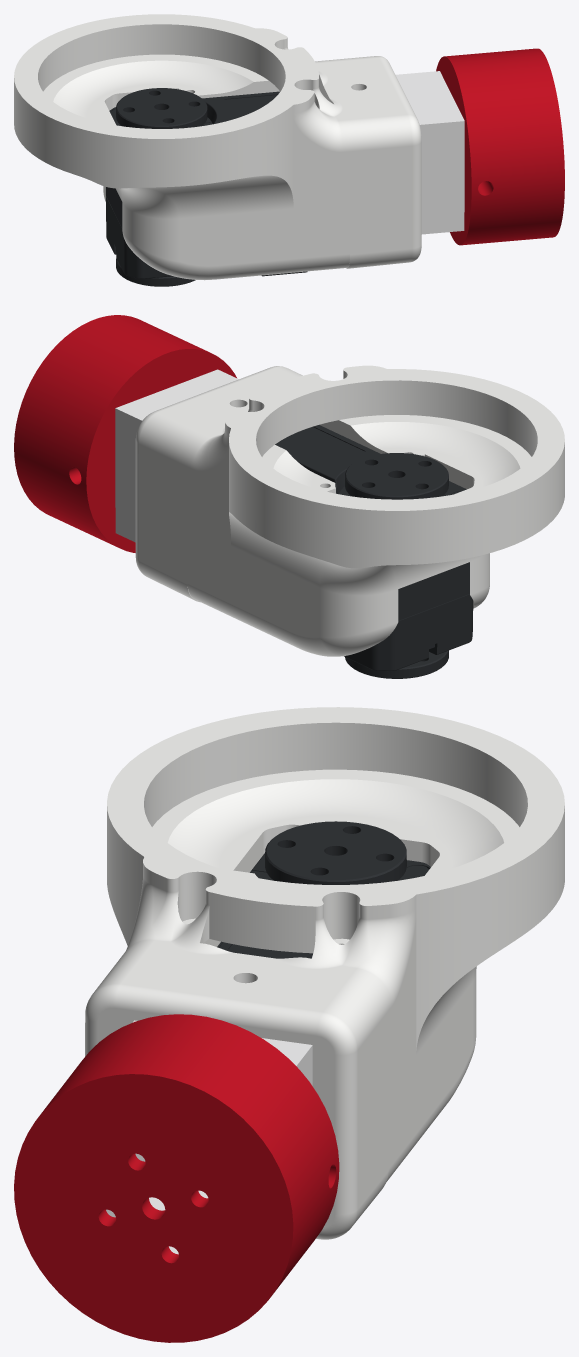
The model's file is Link4_Wrist1.dae.
3 renders of one model, top to bottom at view 1: azimuth 30°, elevation 25°; view 2: azimuth 150°, elevation 25°; view 3: azimuth 270°, elevation 25°, orthographic. The views are drawn at different scales.
Parts seen in each view (by area): view 1: Link4_Wrist1; view 2: Link4_Wrist1; view 3: Link4_Wrist1.
Boxes of the visible parts, bbox=[...] form: Link4_Wrist1: bbox=[14, 14, 564, 286]; Link4_Wrist1: bbox=[14, 315, 564, 678]; Link4_Wrist1: bbox=[14, 707, 564, 1342].
Size of the model in its own units: 0.1159 by 0.0746 by 0.0448.
